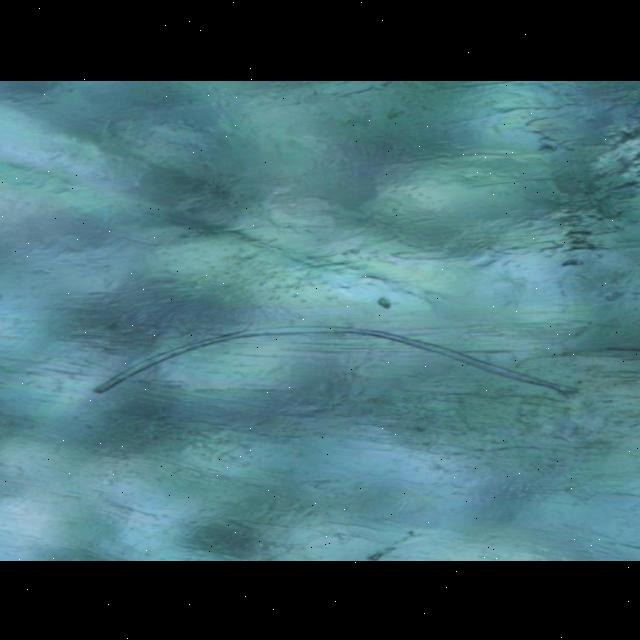Fibre: (93, 324, 584, 398)
